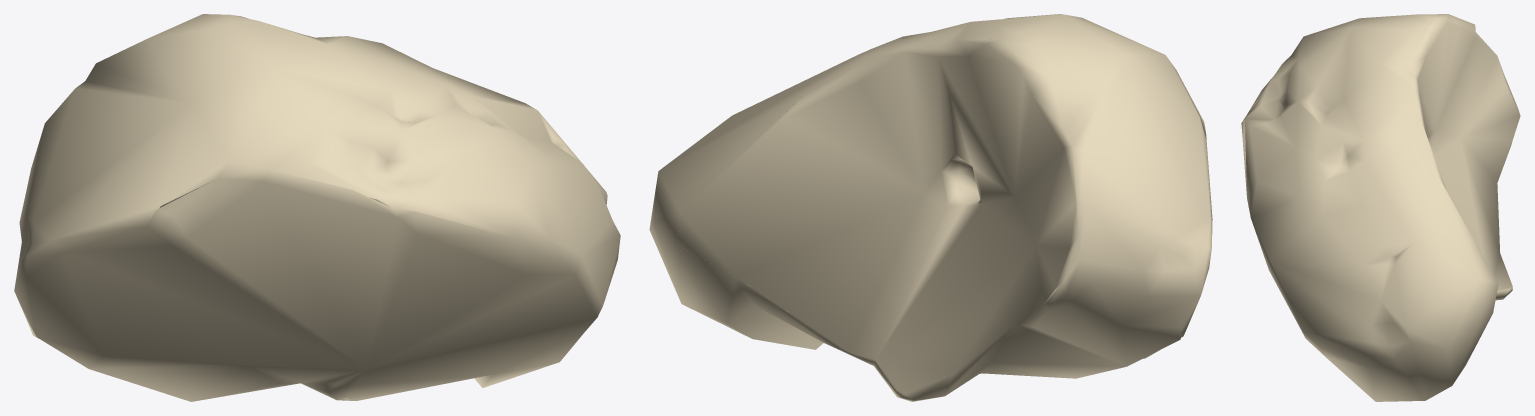
Rendered from esqueleto-navicular-bone-r.glb.
3 renders of one model, left to right at view 1: azimuth 30°, elevation 25°; view 2: azimuth 150°, elevation 25°; view 3: azimuth 270°, elevation 25°, orthographic. The views are drawn at different scales.
Parts seen in each view (by area): view 1: Navicular bone.r; view 2: Navicular bone.r; view 3: Navicular bone.r.
Part boxes in pixels (bbox=[...]): Navicular bone.r: bbox=[14, 14, 620, 401]; Navicular bone.r: bbox=[649, 14, 1212, 401]; Navicular bone.r: bbox=[1241, 14, 1520, 401].
Size of the model in its own units: 0.0407 by 0.0275 by 0.024.
